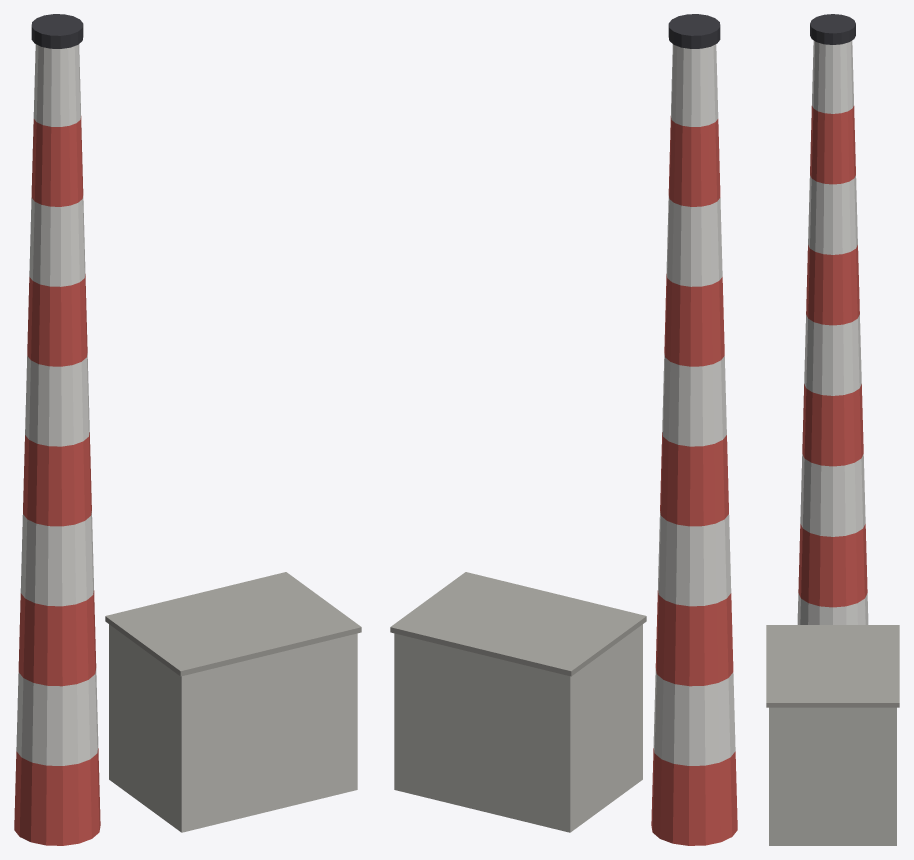
The model's file is tec_chimney.glb.
The picture shows the model from 3 angles, left to right: view 1: azimuth 30°, elevation 25°; view 2: azimuth 150°, elevation 25°; view 3: azimuth 270°, elevation 25°; orthographic projection. The views are drawn at different scales.
Parts seen in each view (by area): view 1: tec_chimney; view 2: tec_chimney; view 3: tec_chimney.
Part boxes in pixels (x1,y1,x2,y2): tec_chimney: [14, 14, 361, 845]; tec_chimney: [390, 14, 737, 845]; tec_chimney: [766, 14, 899, 845].
Bounding box in the file's own units: 24.2 × 61 × 10.4.
